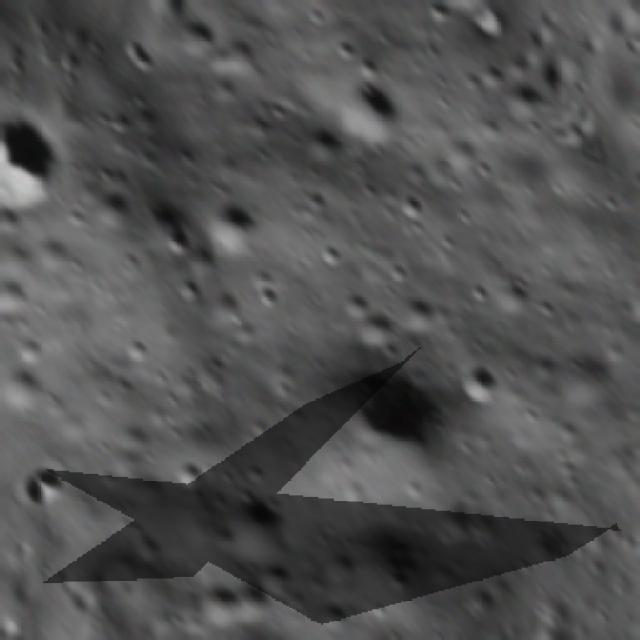crater: (318, 335, 460, 480), (307, 57, 415, 165), (0, 127, 83, 235), (211, 487, 303, 579), (192, 188, 274, 269), (448, 347, 512, 413), (163, 442, 222, 500), (609, 252, 640, 345), (497, 77, 548, 129), (333, 281, 384, 333), (28, 448, 78, 500), (110, 328, 156, 374), (392, 188, 433, 230), (527, 288, 567, 328), (168, 271, 208, 311), (380, 563, 418, 602), (386, 255, 422, 291), (250, 278, 284, 313), (432, 227, 463, 258), (466, 156, 496, 187), (317, 239, 346, 270), (600, 190, 628, 218), (297, 0, 366, 2)
